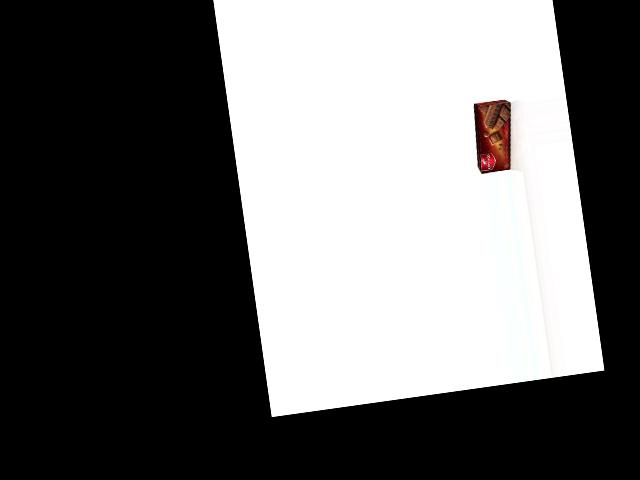chocolate: (468, 99, 520, 174)
